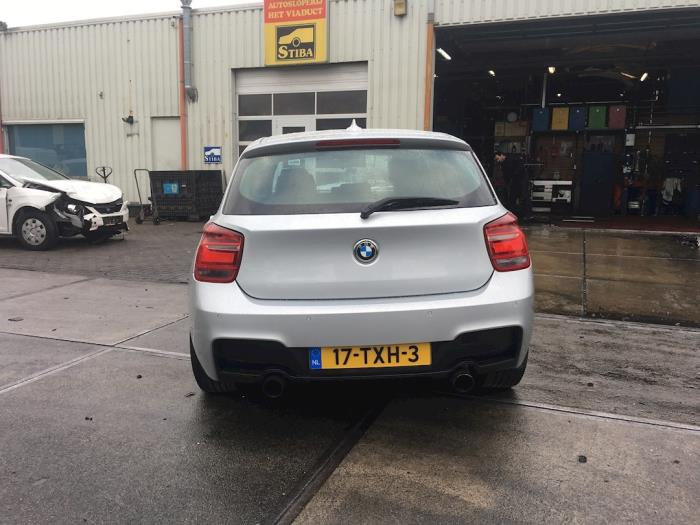licence-plate: (316, 348, 427, 368)
